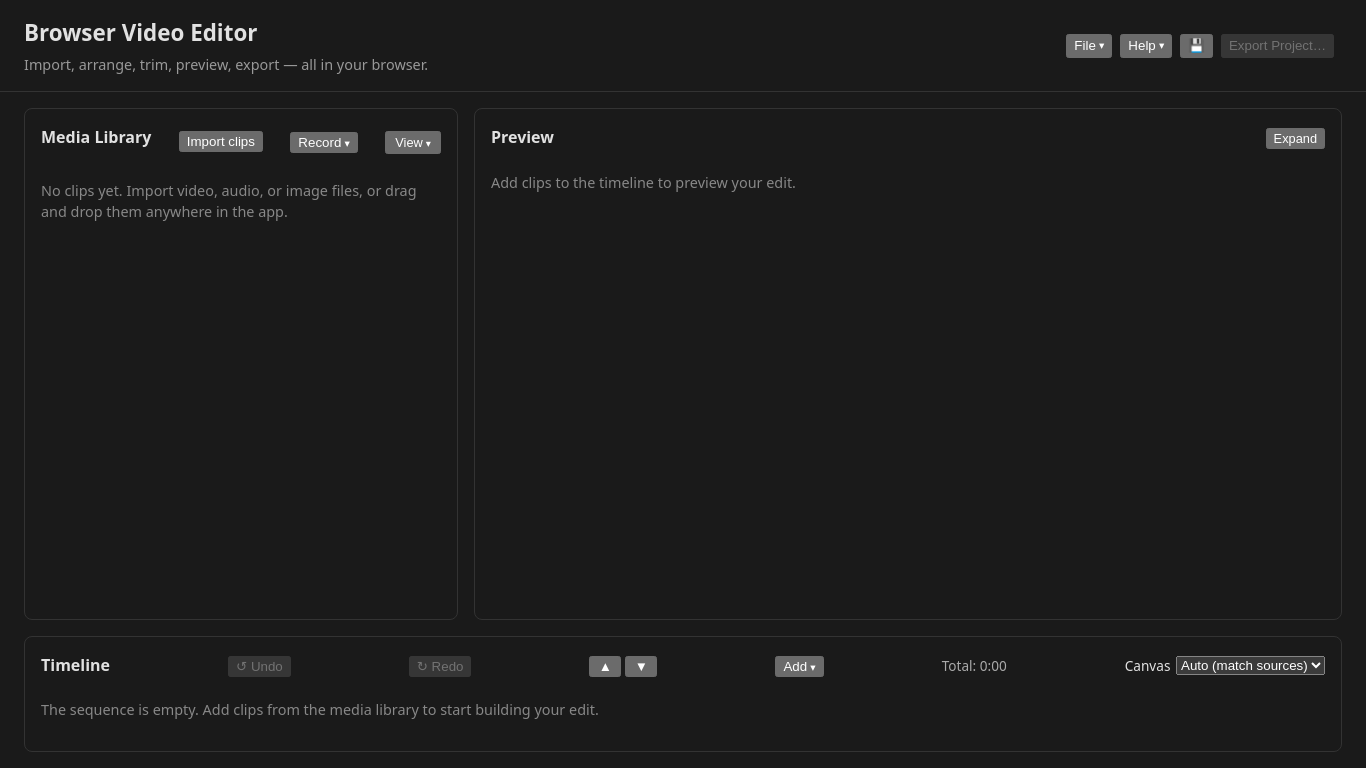
Scenario: undo and redo wait behind a modal dialog (#559) › Ctrl+Z and Ctrl+Shift+Z do nothing while a dialog is open, and work again once it closes
Click the button "Add▾" at (800, 666), box [776, 656, 824, 677]
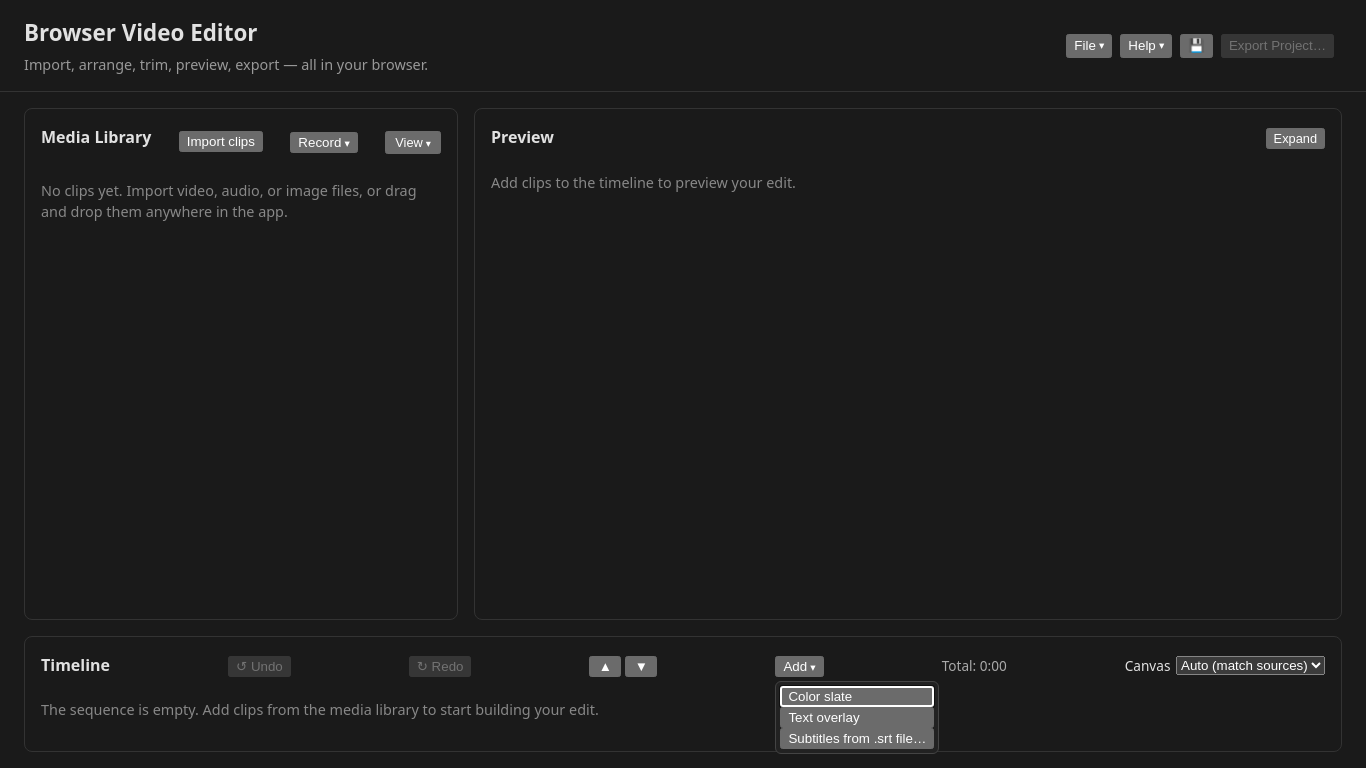
Click the menu item "Color slate" at (857, 696), box [780, 686, 934, 707]
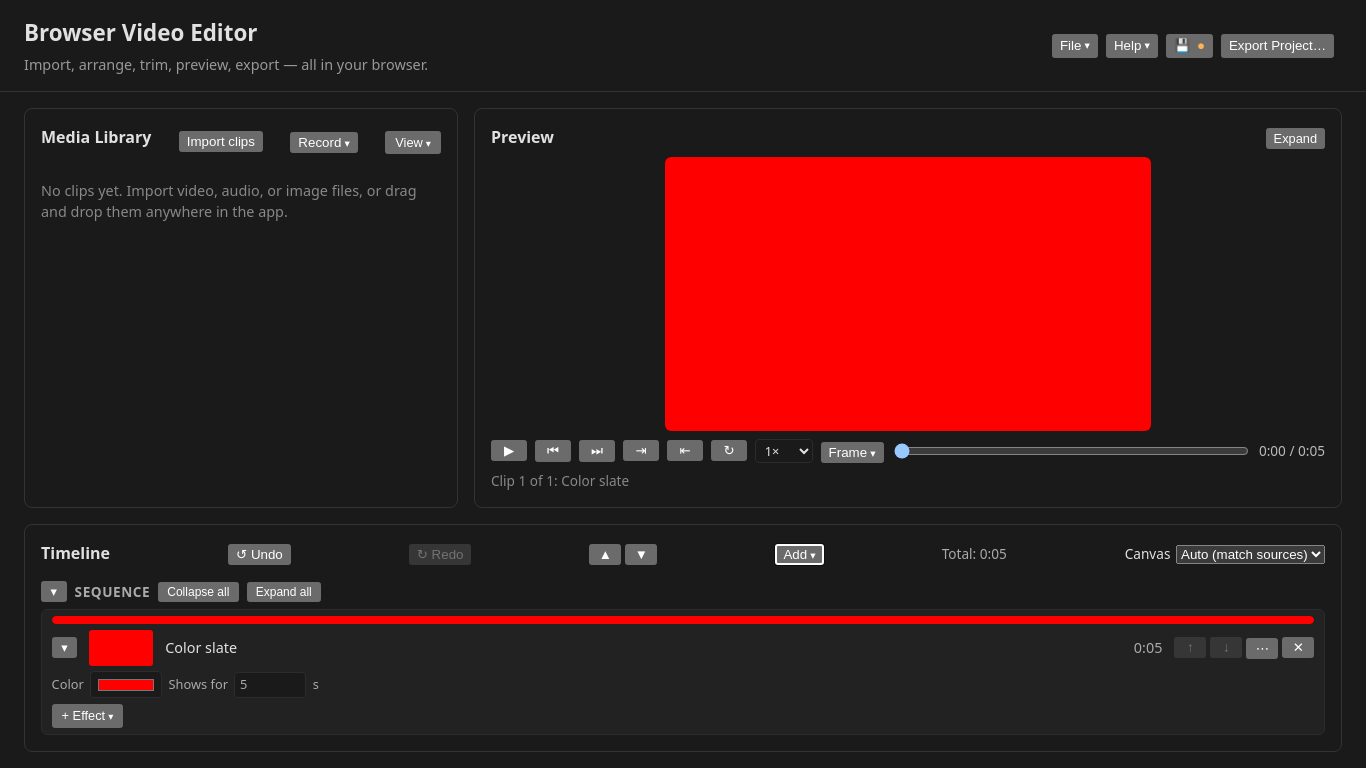
Now the list named "Sequence" is shown, box [41, 609, 1325, 735]
Click the button named "Remove Color slate at position 1 from timeline" at (1298, 648), box [1282, 637, 1314, 658]
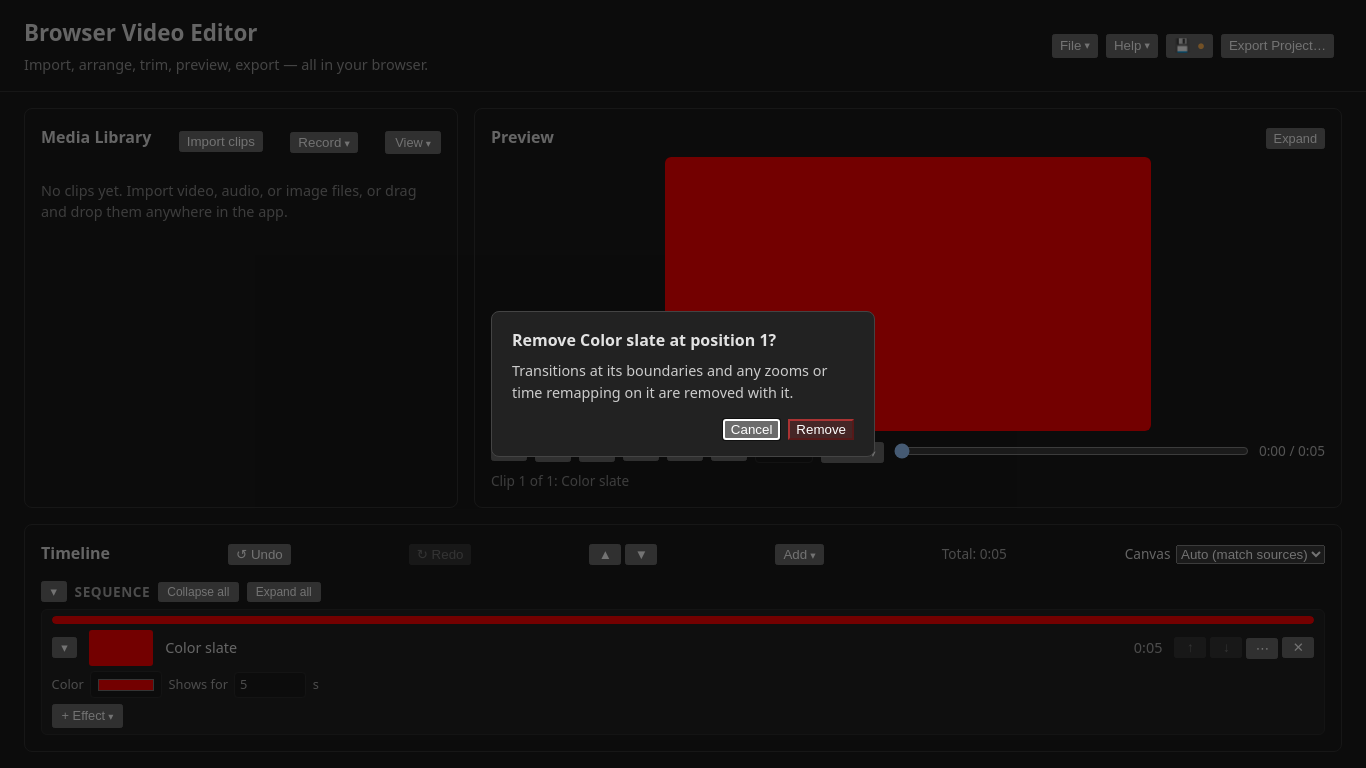
Now the list named "Sequence" is shown, box [41, 609, 1325, 735]
# Closed, the same chord undoes the add, and the redo chord restores it.
Click the button "Cancel" at (752, 430), box [723, 419, 780, 440]
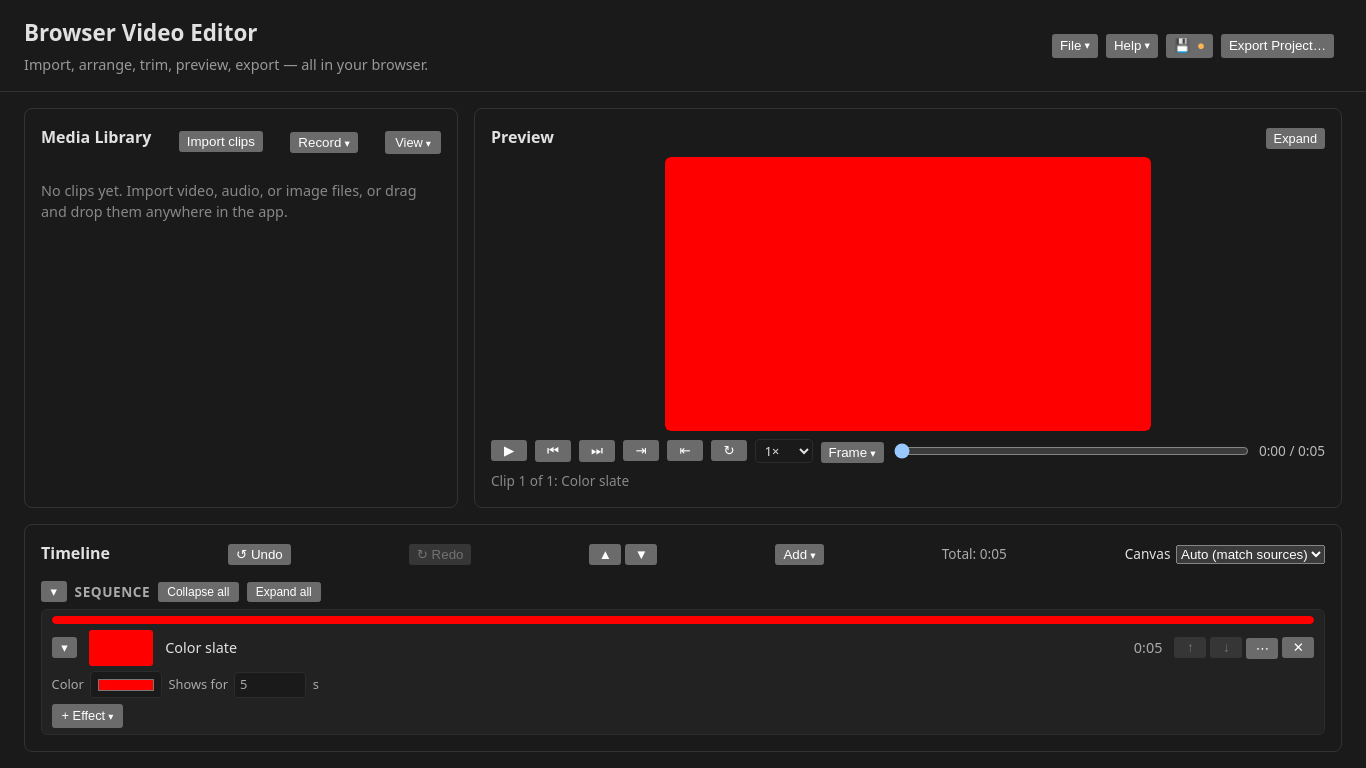
Now the list named "Sequence" is shown, box [41, 609, 1325, 735]
Now the dialog is gone
